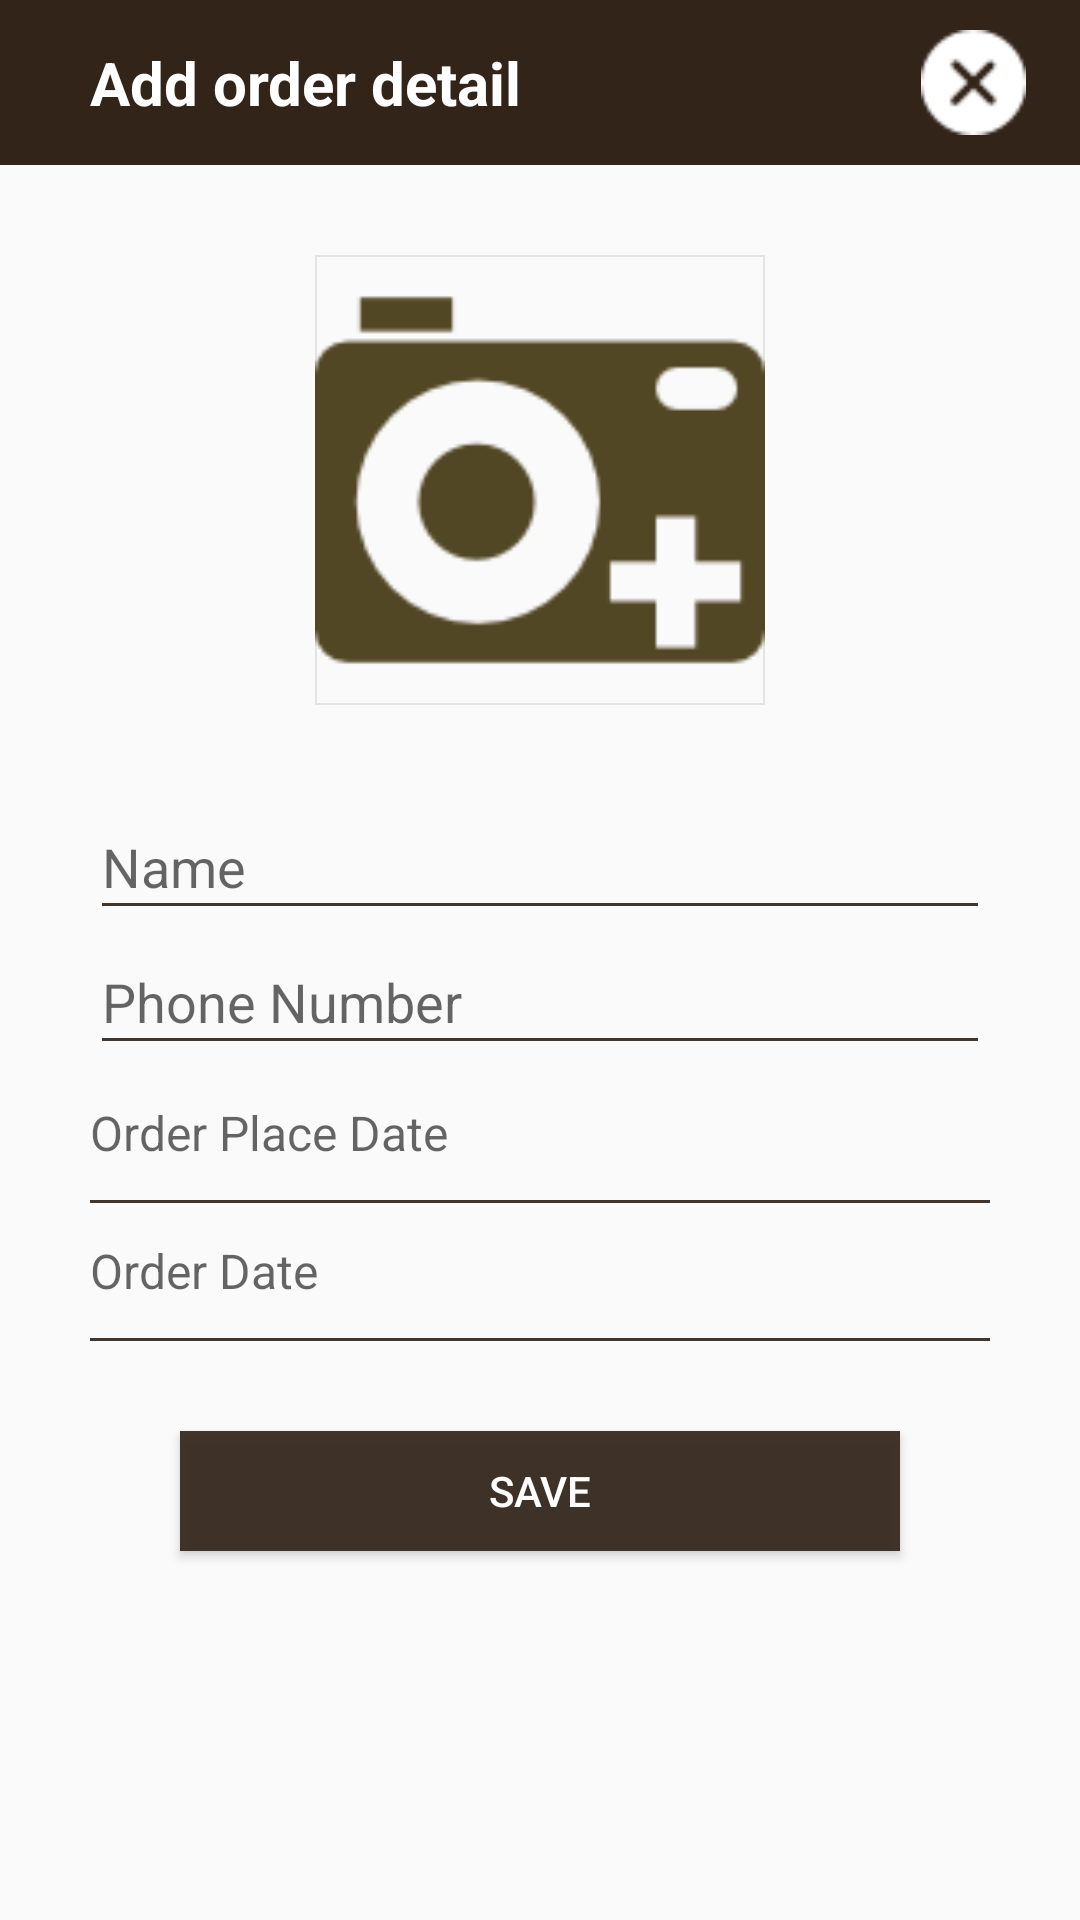

Icon bounding boxes for this 1080*1920 phone screenshot, format (x1, y1, x2, y2):
cross order: (921, 30, 1026, 135)
